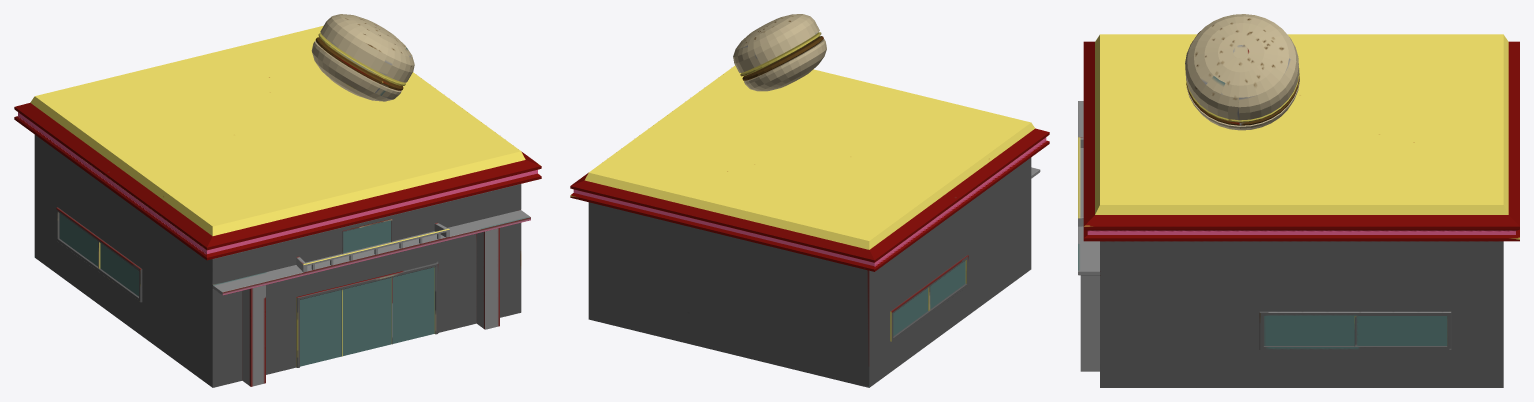
File: MarketPlace.fbx
3 renders of one model, left to right at view 1: azimuth 30°, elevation 25°; view 2: azimuth 150°, elevation 25°; view 3: azimuth 270°, elevation 25°, orthographic. The views are drawn at different scales.
Parts seen in each view (by area): view 1: MarketBuilding; view 2: MarketBuilding; view 3: MarketBuilding.
Boxes of the visible parts, x1=… form: MarketBuilding: x1=14, y1=14, x2=541, y2=387; MarketBuilding: x1=570, y1=14, x2=1049, y2=387; MarketBuilding: x1=1078, y1=14, x2=1519, y2=387.
Bounding box in the file's own units: 1085 × 845 × 1095.
Materials: 1 (1 with a texture image).
